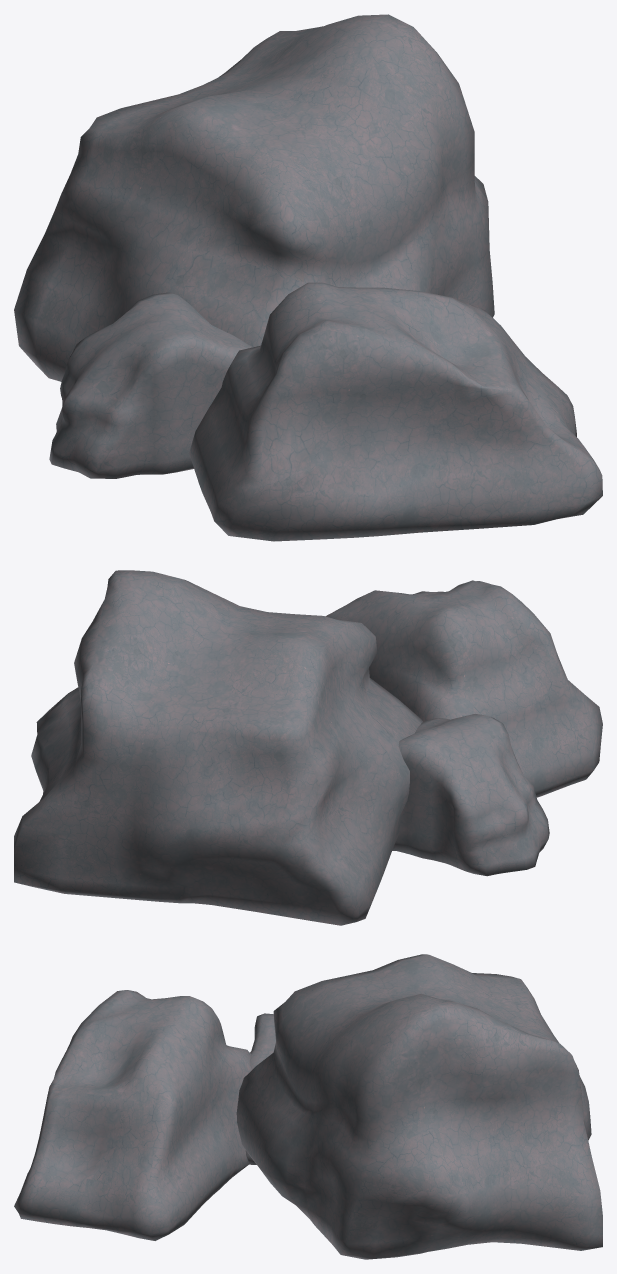
File: Rock_Pile_5.fbx
3 renders of one model, top to bottom at view 1: azimuth 30°, elevation 25°; view 2: azimuth 150°, elevation 25°; view 3: azimuth 270°, elevation 25°, orthographic. The views are drawn at different scales.
Visible parts, largest first — view 1: Rock_Pile_5; view 2: Rock_Pile_5; view 3: Rock_Pile_5.
Part boxes in pixels (x1,y1,x2,y2): Rock_Pile_5: [14, 14, 602, 541]; Rock_Pile_5: [14, 570, 602, 925]; Rock_Pile_5: [14, 954, 602, 1259].
Size of the model in its own units: 89.03 by 52.69 by 113.
